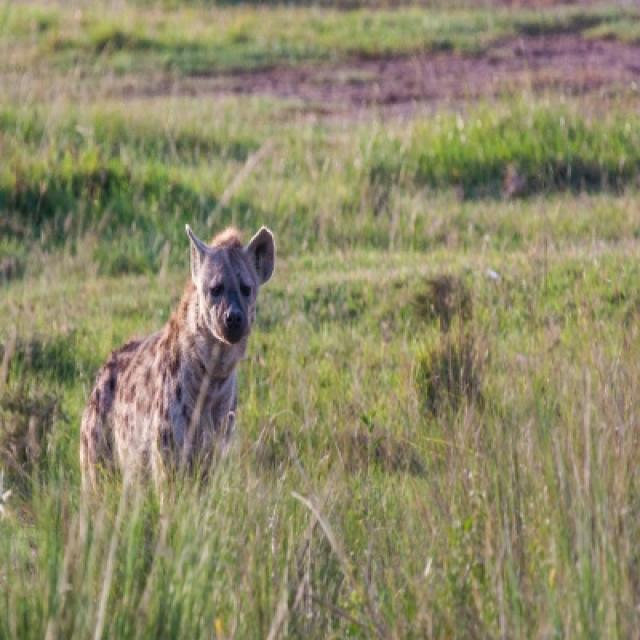hyena: (78, 226, 277, 488)
